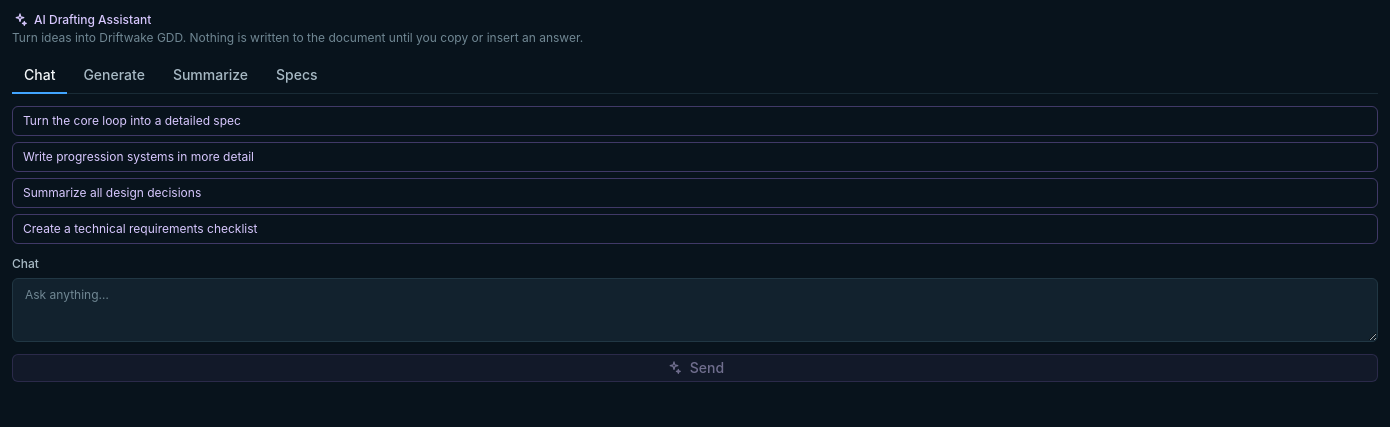
DraftingPanel › reports a failed request and keeps the panel usable
Click the button "Summarize all design decisions" at (112, 192), box [12, 178, 1378, 208]
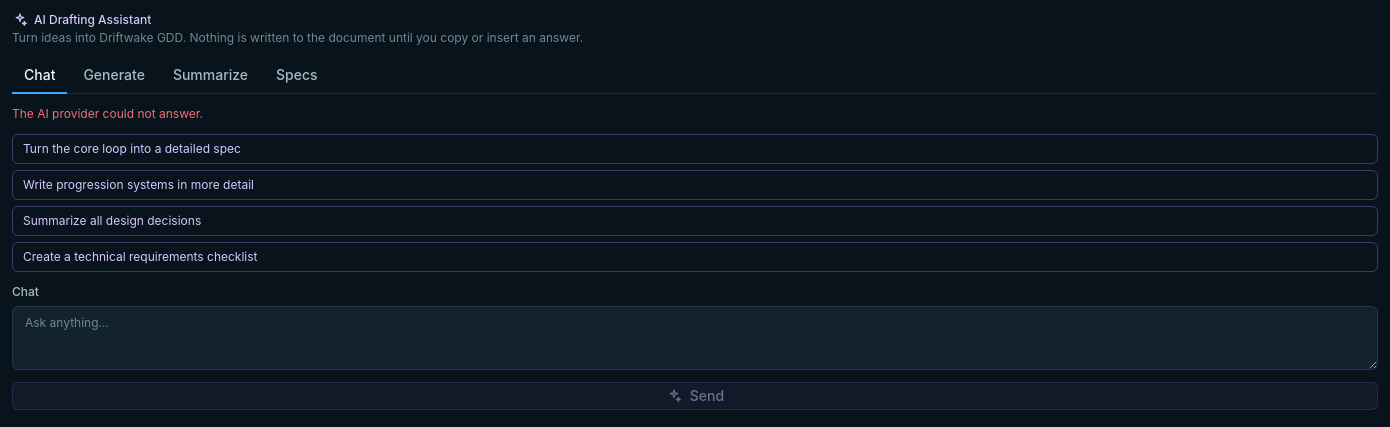
Expected: the button "Summarize all design decisions" is shown, [12, 206, 1378, 236]
Expected: the text "The AI provider could not answer." is shown, [12, 106, 203, 121]
